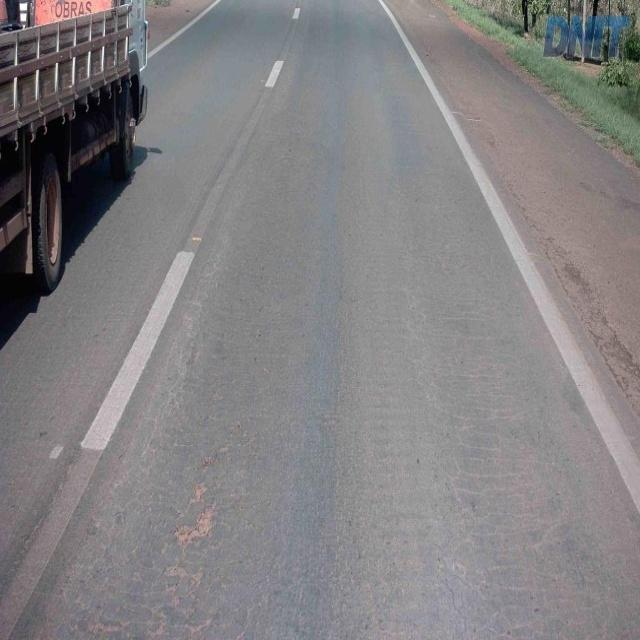pothole: (170, 492, 228, 556)
